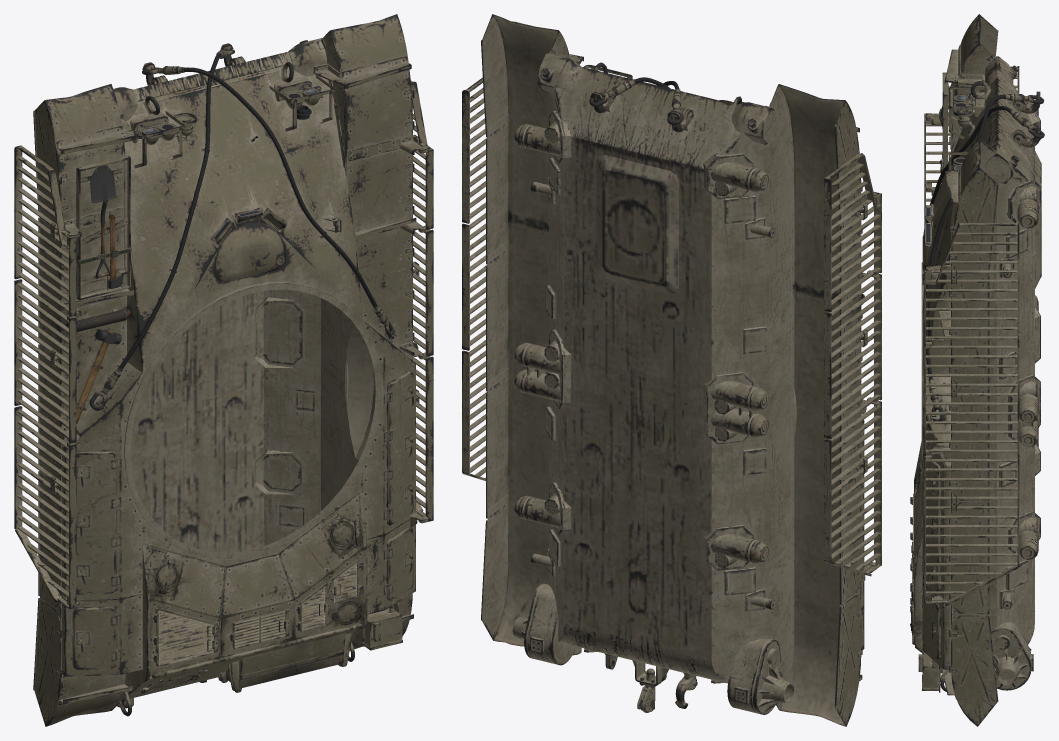
File: Hull.glb
The picture shows the model from 3 angles, left to right: view 1: azimuth 30°, elevation 25°; view 2: azimuth 150°, elevation 25°; view 3: azimuth 270°, elevation 25°; orthographic projection. The views are drawn at different scales.
Parts seen in each view (by area): view 1: set_0_group_0; view 2: set_0_group_0; view 3: set_0_group_0.
Boxes of the visible parts, left/top/right/bottom form: set_0_group_0: left=14, top=14, right=433, bottom=726; set_0_group_0: left=462, top=14, right=881, bottom=726; set_0_group_0: left=910, top=14, right=1044, bottom=726.
Bounding box in the file's own units: 3.28 × 5.44 × 1.16.
Materials: 1 (1 with a texture image).
